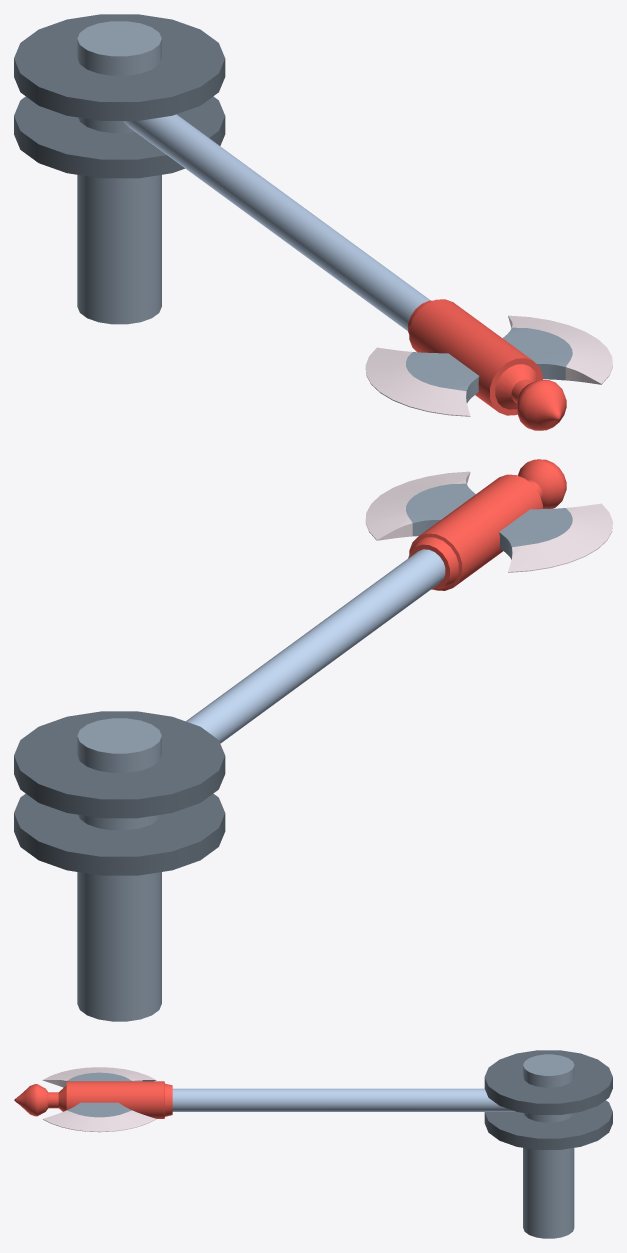
Rendered from AxeHorizontal01.fbx.
The picture shows the model from 3 angles, top to bottom: view 1: azimuth 30°, elevation 25°; view 2: azimuth 150°, elevation 25°; view 3: azimuth 270°, elevation 25°; orthographic projection. The views are drawn at different scales.
Visible parts, largest first — view 1: AxeBase, Axe; view 2: AxeBase, Axe; view 3: AxeBase, Axe.
Boxes of the visible parts, left/top/right/bottom form: AxeBase: left=14, top=14, right=225, bottom=324; Axe: left=123, top=114, right=612, bottom=430; AxeBase: left=14, top=711, right=225, bottom=1021; Axe: left=186, top=459, right=612, bottom=743; AxeBase: left=484, top=1050, right=612, bottom=1238; Axe: left=14, top=1067, right=515, bottom=1132.
Size of the model in its own units: 119 by 146 by 467.
